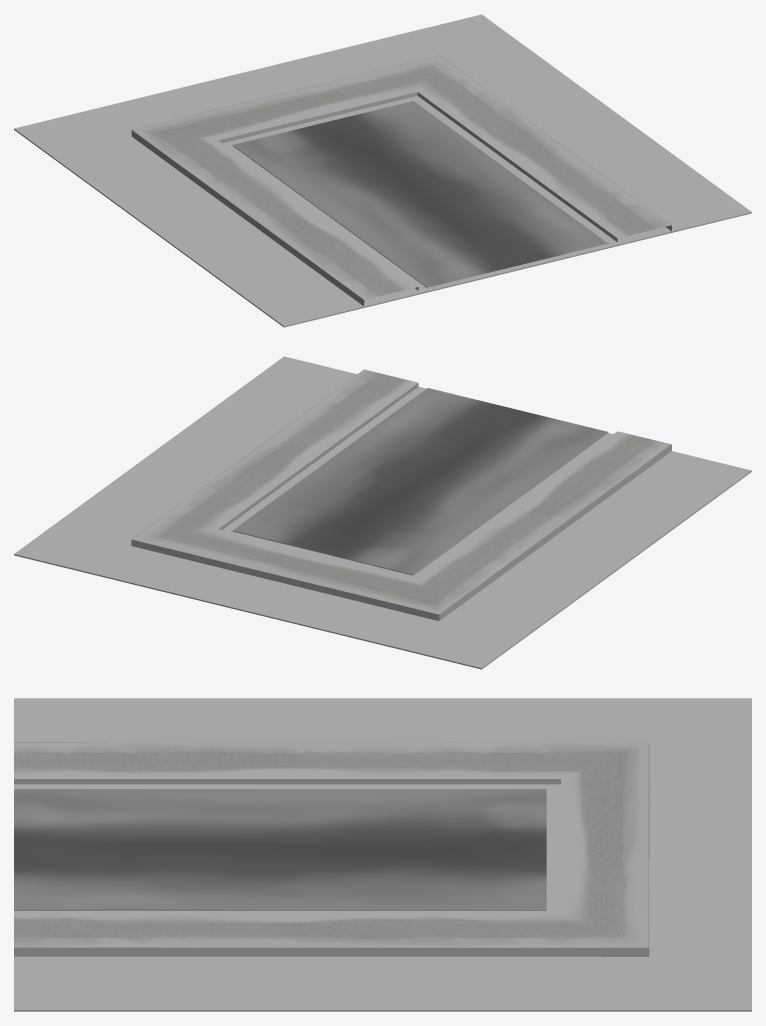
The model's file is Flat_DeadEnd.fbx.
3 renders of one model, top to bottom at view 1: azimuth 30°, elevation 25°; view 2: azimuth 150°, elevation 25°; view 3: azimuth 270°, elevation 25°, orthographic. The views are drawn at different scales.
Visible parts, largest first — view 1: Road_10X39, Road_10X45; view 2: Road_10X39, Road_10X45; view 3: Road_10X39, Road_10X45.
Boxes of the visible parts, box(x1,y1,x2,y2) form: Road_10X39: box(131, 55, 671, 306); Road_10X45: box(14, 14, 751, 327); Road_10X39: box(131, 369, 671, 620); Road_10X45: box(14, 356, 751, 669); Road_10X39: box(14, 742, 649, 956); Road_10X45: box(14, 698, 751, 1011).
Bounding box in the file's own units: 1000 × 16.24 × 1000.
